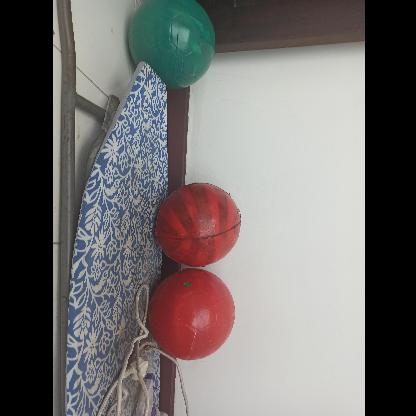red_ball: (146, 270, 235, 358), (156, 181, 242, 267)
